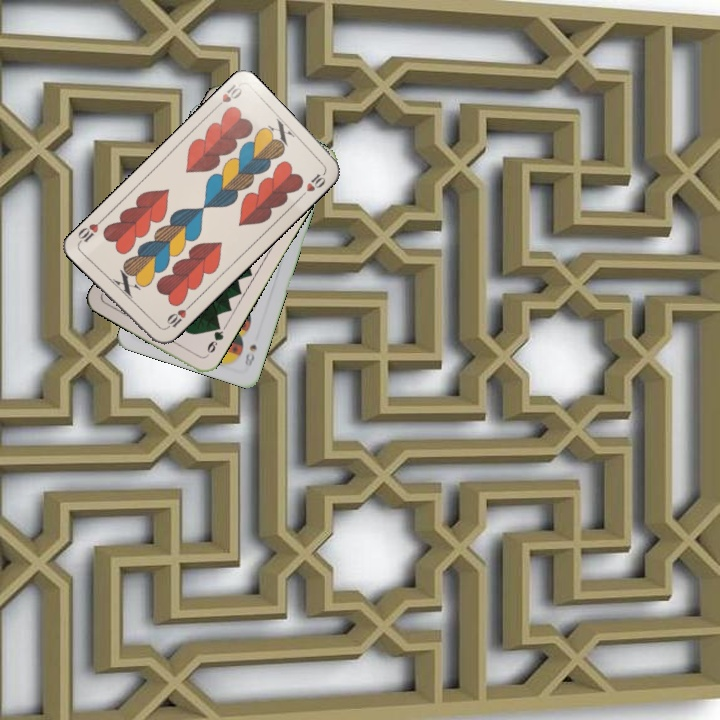G9: (202, 320, 226, 359)
H10: (209, 80, 245, 113), (160, 301, 193, 332)
S8: (240, 340, 259, 370)
